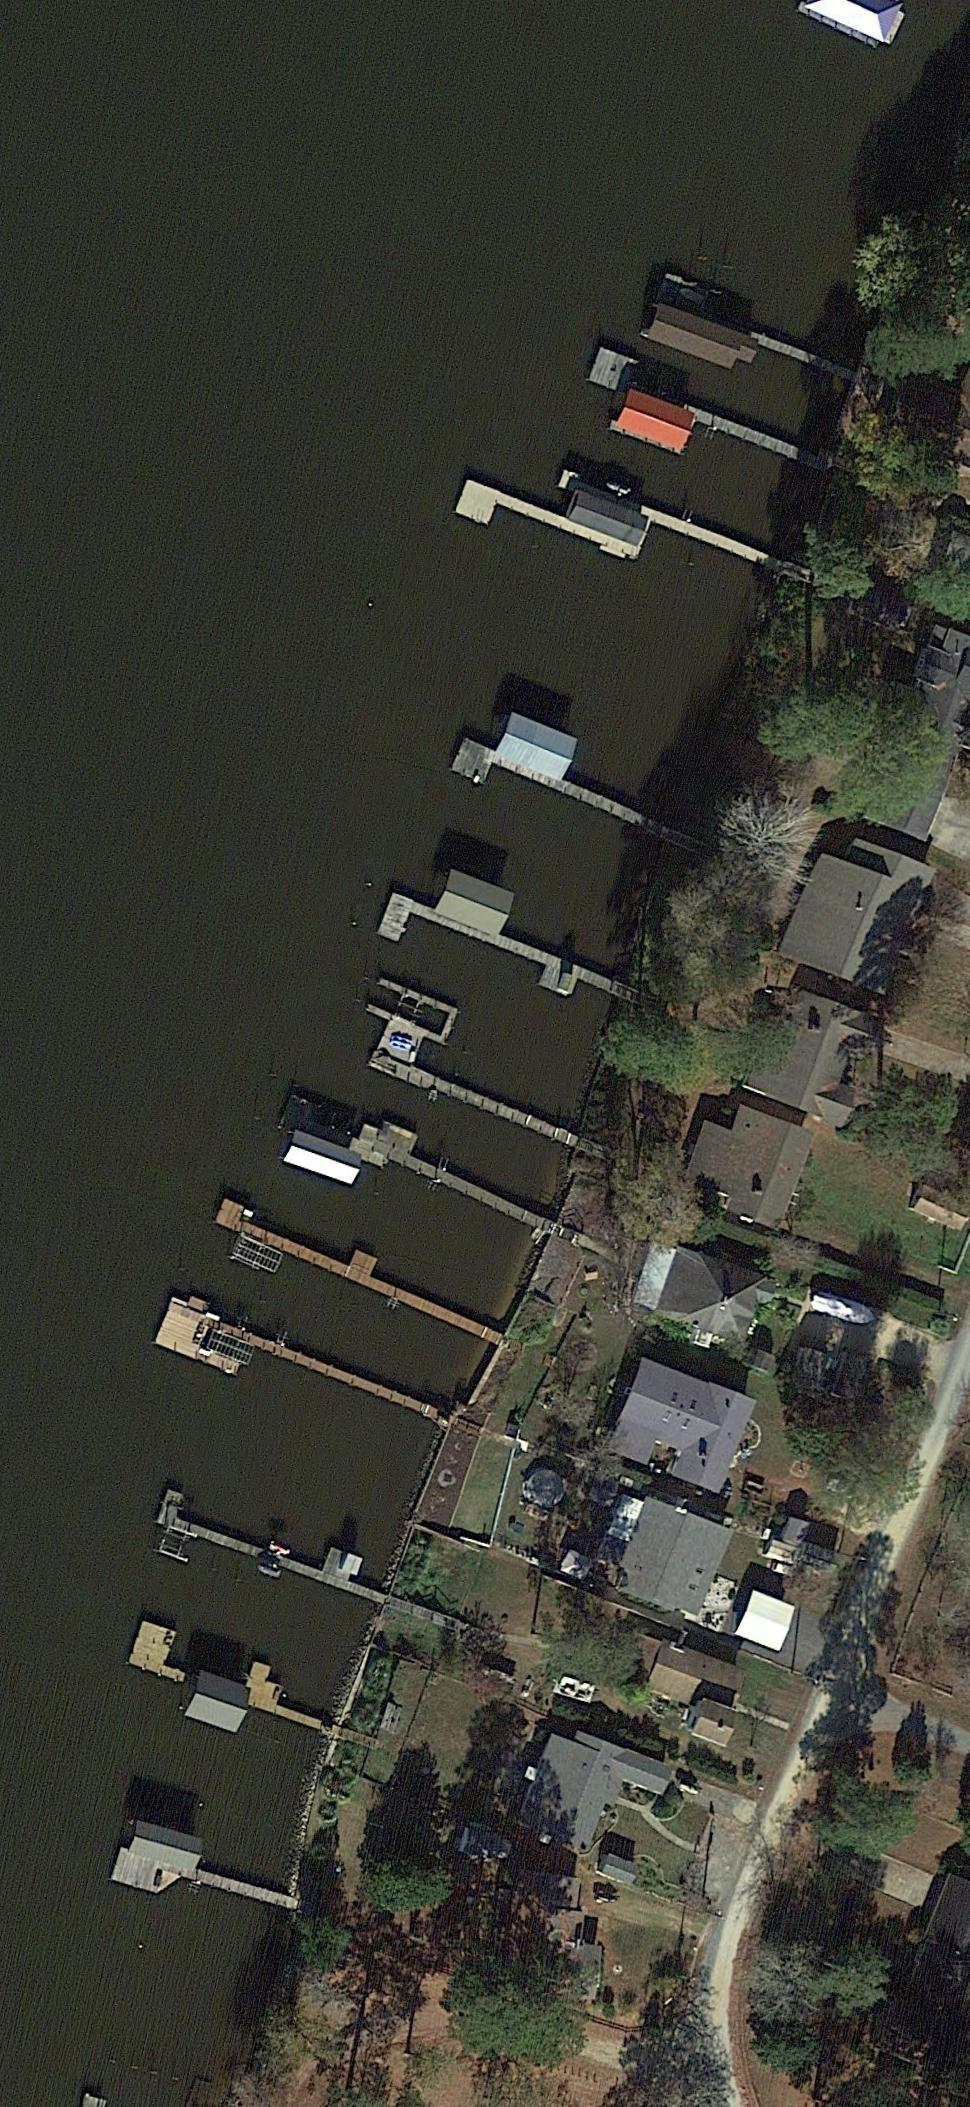harbor: (455, 439, 762, 619), (261, 1082, 543, 1255), (450, 695, 703, 865), (375, 848, 623, 1021), (214, 1195, 498, 1341), (347, 976, 588, 1139), (155, 1290, 423, 1436), (572, 347, 813, 490), (640, 271, 856, 404), (128, 1618, 324, 1727), (159, 1488, 361, 1592), (110, 1818, 294, 1926)
ship: (805, 1285, 879, 1330)
